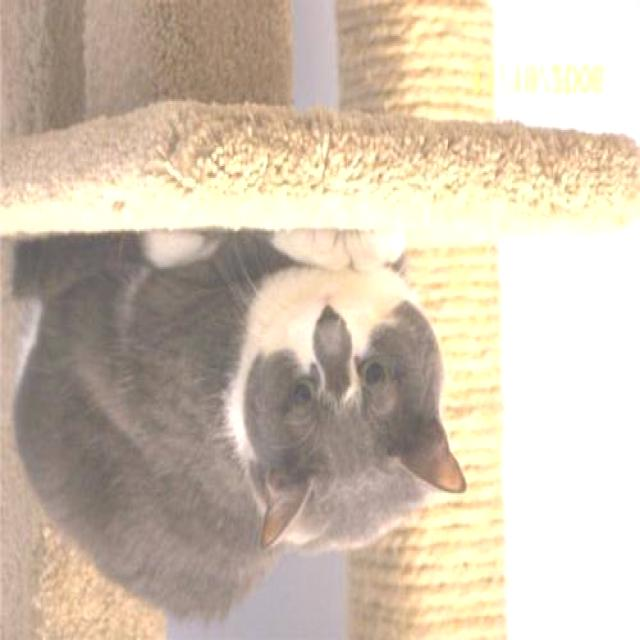Kucing: (32, 168, 505, 640)
